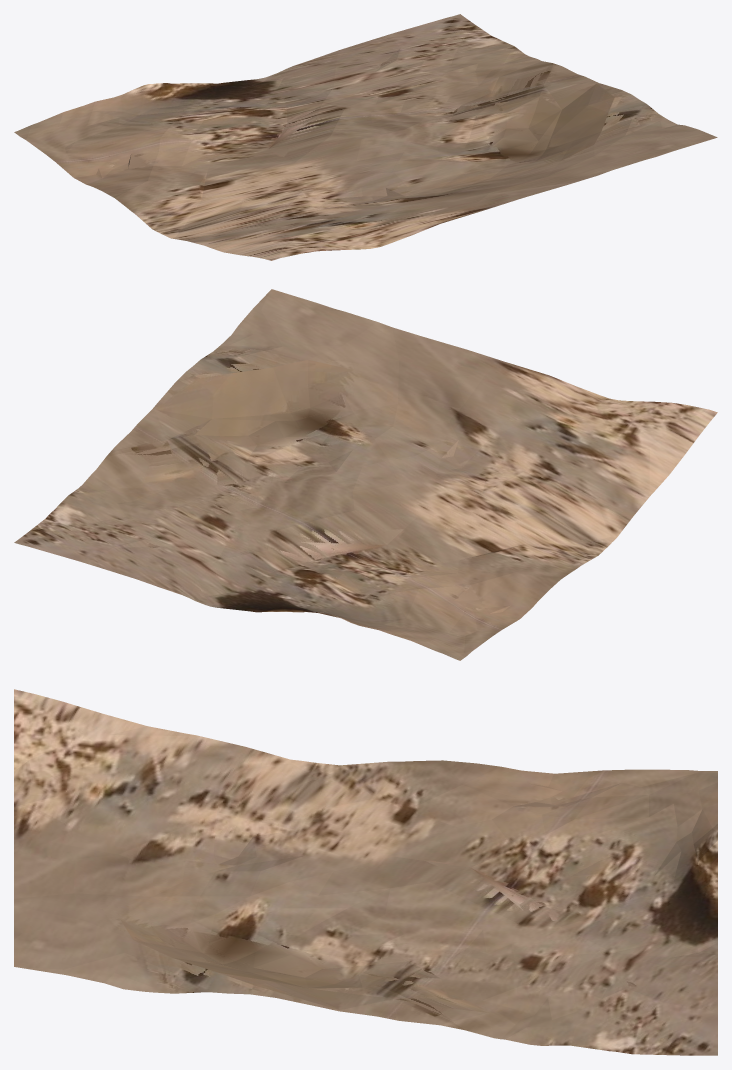
The picture shows the model from 3 angles, top to bottom: view 1: azimuth 30°, elevation 25°; view 2: azimuth 150°, elevation 25°; view 3: azimuth 270°, elevation 25°; orthographic projection. The views are drawn at different scales.
Size of the model in its own units: 1.04 by 0.1818 by 1.04.
Materials: 2 (2 with a texture image).
